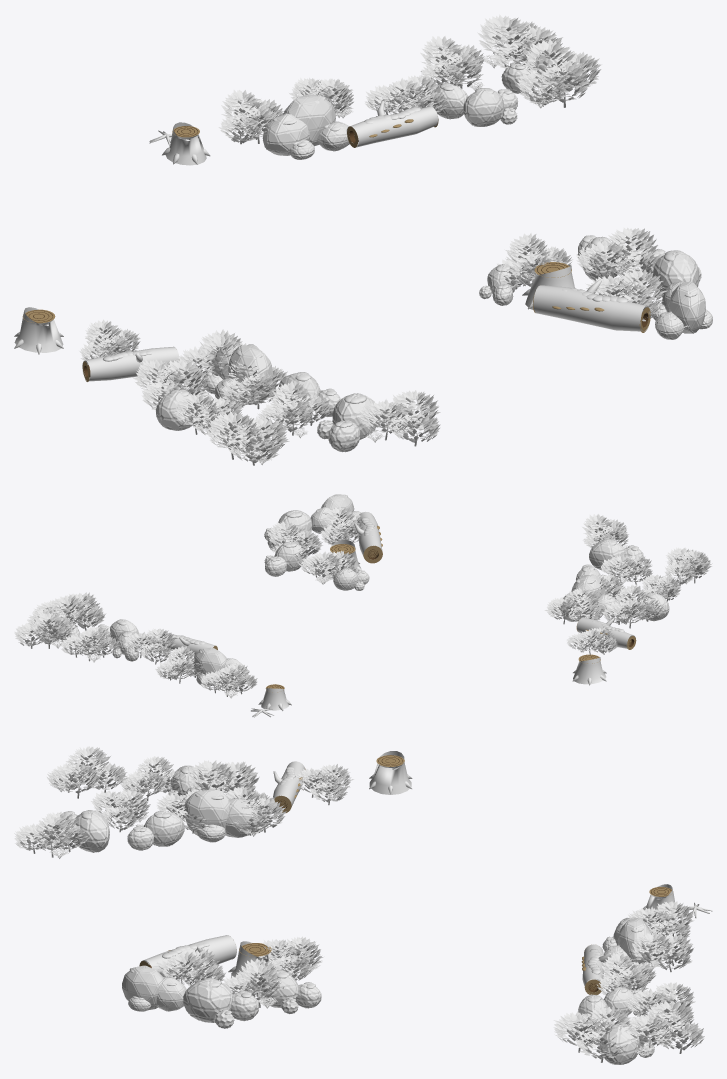
Rendered from SM_NW_Nature_0_3_Macro.fbx.
3 views of the same model, one above another, from view 1: azimuth 30°, elevation 25°; view 2: azimuth 150°, elevation 25°; view 3: azimuth 270°, elevation 25° (orthographic). The views are drawn at different scales.
Visible parts, largest first — view 1: SM_NW_Nature_0_3_Macro; view 2: SM_NW_Nature_0_3_Macro; view 3: SM_NW_Nature_0_3_Macro.
Boxes of the visible parts, x1=… form: SM_NW_Nature_0_3_Macro: x1=14, y1=14, x2=712, y2=465; SM_NW_Nature_0_3_Macro: x1=14, y1=494, x2=712, y2=717; SM_NW_Nature_0_3_Macro: x1=14, y1=746, x2=712, y2=1064.
Bounding box in the file's own units: 2954 × 2892 × 265.
